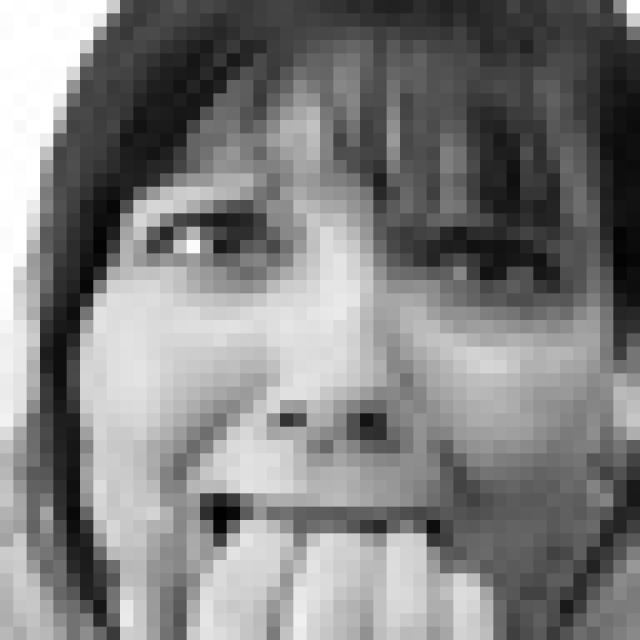fear: (139, 153, 592, 594)
